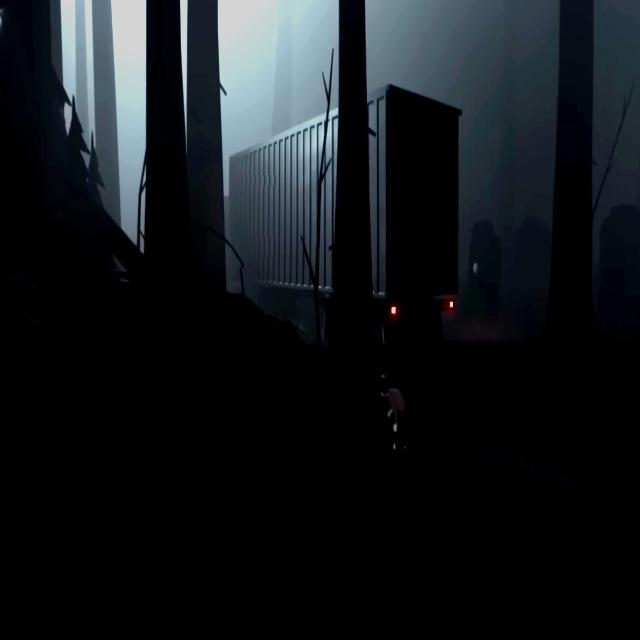boy: (379, 374, 410, 456)
